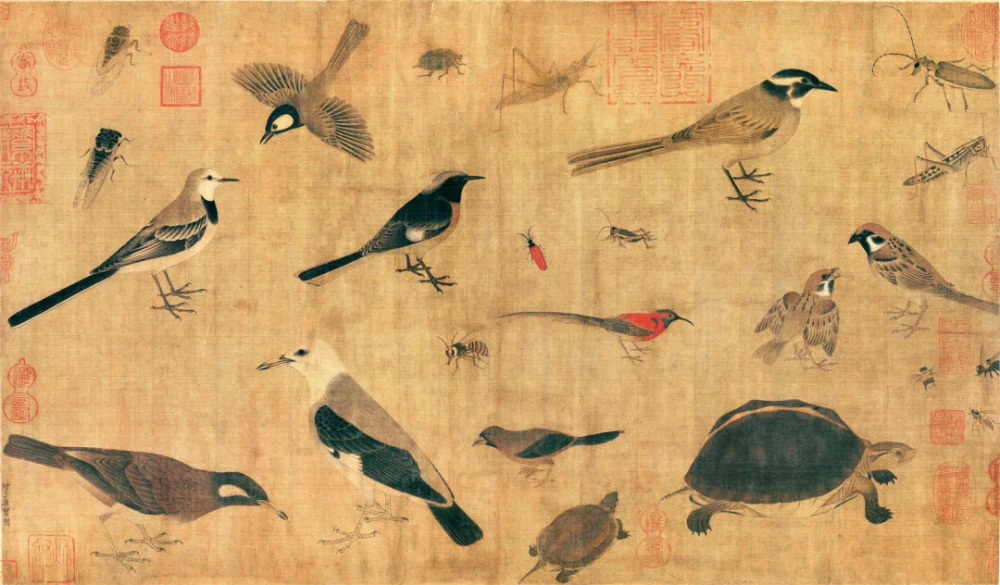bird: (255, 337, 480, 554), (769, 207, 1000, 387), (598, 72, 834, 207), (45, 170, 240, 319), (1, 431, 284, 533), (227, 20, 382, 163), (303, 176, 484, 293), (482, 291, 719, 370), (466, 415, 630, 479)
